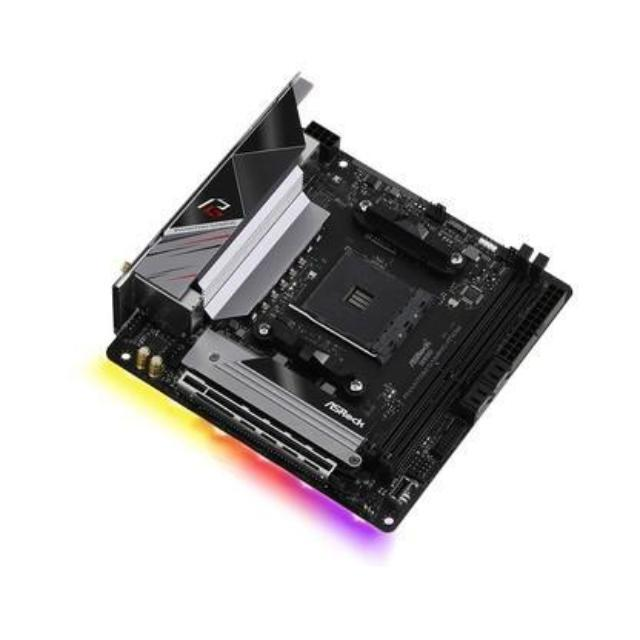Mainboard: (99, 54, 576, 532)
